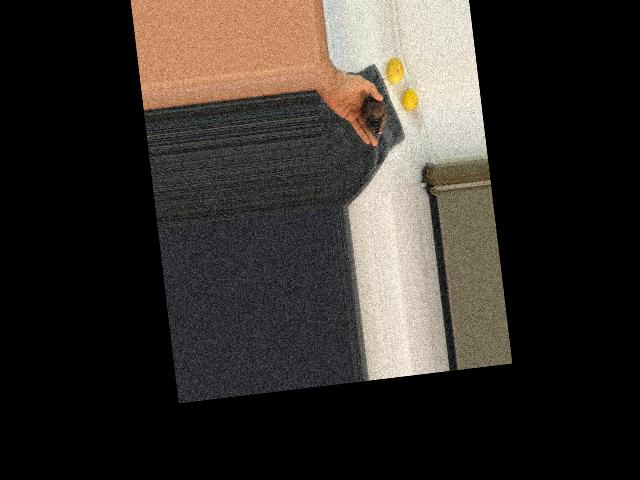beet: (357, 77, 391, 134)
